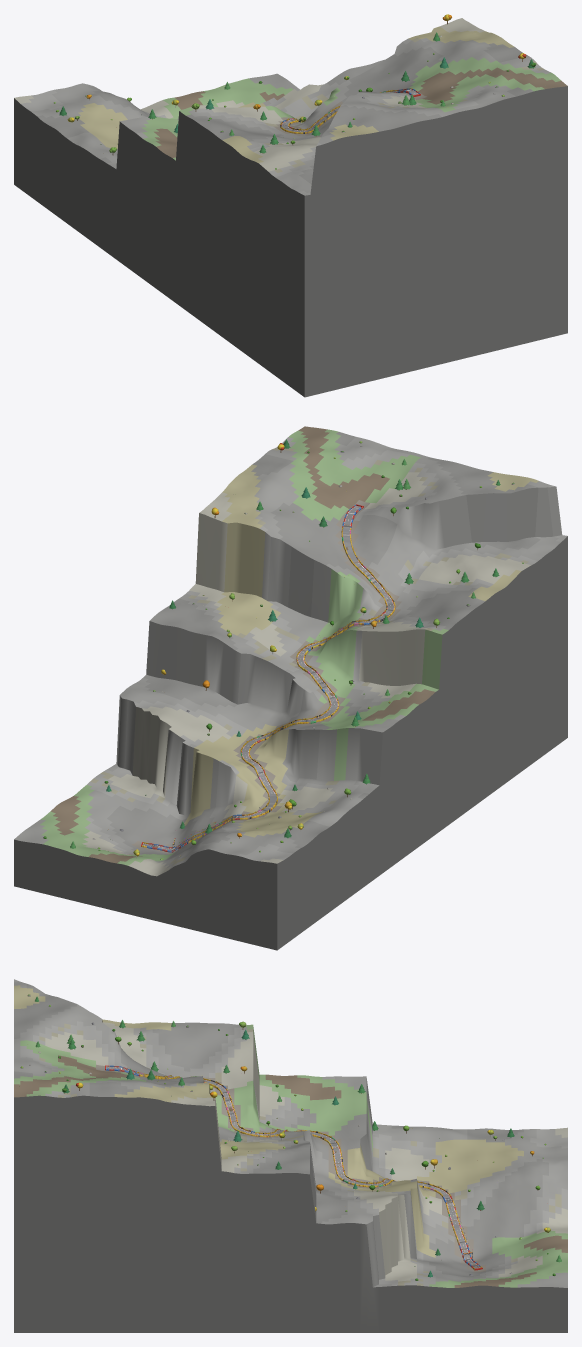
3 views of the same model, one above another, from view 1: azimuth 30°, elevation 25°; view 2: azimuth 150°, elevation 25°; view 3: azimuth 270°, elevation 25° (orthographic). The views are drawn at different scales.
Visible parts, largest first — view 1: grass, pines; view 2: grass, hay, road, pines; view 3: grass, hay, road, pines.
Boxes of the visible parts, x1,y1,x2,y2 form: grass: (14, 18, 567, 397); pines: (59, 32, 535, 153); grass: (14, 426, 567, 950); hay: (141, 504, 395, 852); road: (142, 506, 394, 850); pines: (70, 439, 500, 848); grass: (14, 979, 567, 1332); hay: (105, 1065, 482, 1270); road: (106, 1066, 480, 1268); pines: (35, 996, 561, 1277).
Bounding box in the file's own units: 230 × 215 × 440.
